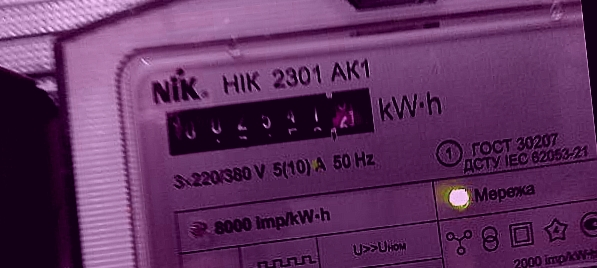0: (179, 114, 199, 142), (206, 109, 223, 137)
1: (305, 96, 321, 124)
2: (230, 106, 249, 132)
4: (282, 100, 297, 124)
5: (255, 102, 276, 132)
6: (334, 110, 351, 129)
screen: (150, 72, 390, 168)
